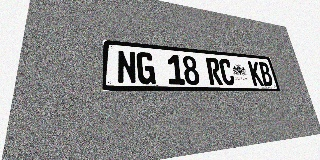1: (166, 54, 185, 85)
8: (182, 55, 200, 85)
B: (258, 62, 274, 86)
C: (218, 59, 236, 85)
G: (136, 52, 156, 84)
K: (248, 61, 264, 86)
N: (117, 50, 137, 84)
R: (205, 57, 223, 85)
